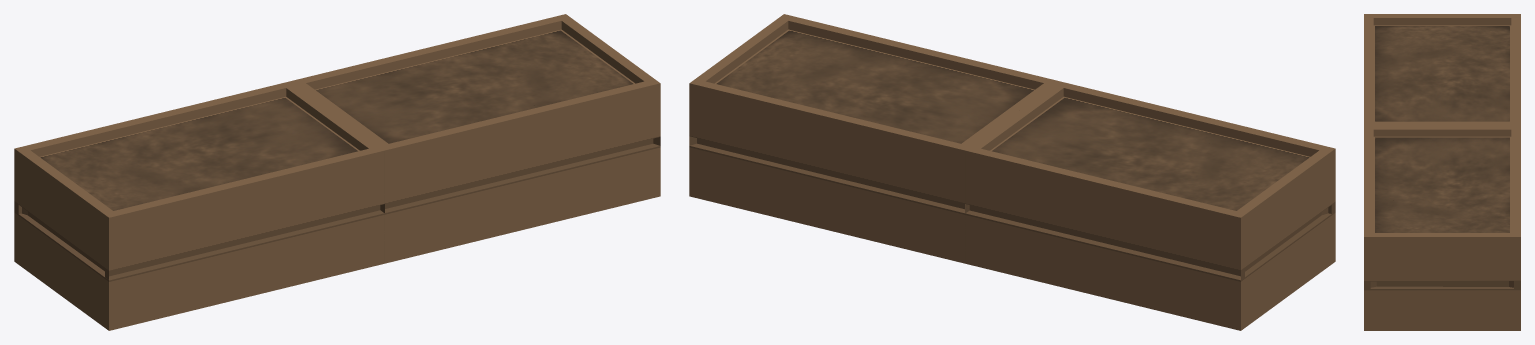
Rendered from planter.gltf.
The picture shows the model from 3 angles, left to right: view 1: azimuth 30°, elevation 25°; view 2: azimuth 150°, elevation 25°; view 3: azimuth 270°, elevation 25°; orthographic projection. The views are drawn at different scales.
Parts seen in each view (by area): view 1: Cube; view 2: Cube; view 3: Cube.
Boxes of the visible parts, x1=… form: Cube: x1=14, y1=14, x2=660, y2=330; Cube: x1=689, y1=14, x2=1335, y2=330; Cube: x1=1364, y1=14, x2=1520, y2=330.
Size of the model in its own units: 2 by 0.3927 by 0.5954.
1 material, 1 textured.
